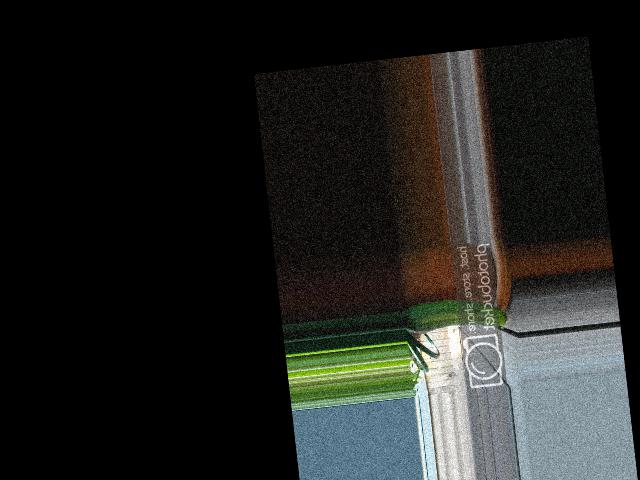cucumber: (403, 293, 512, 337)
